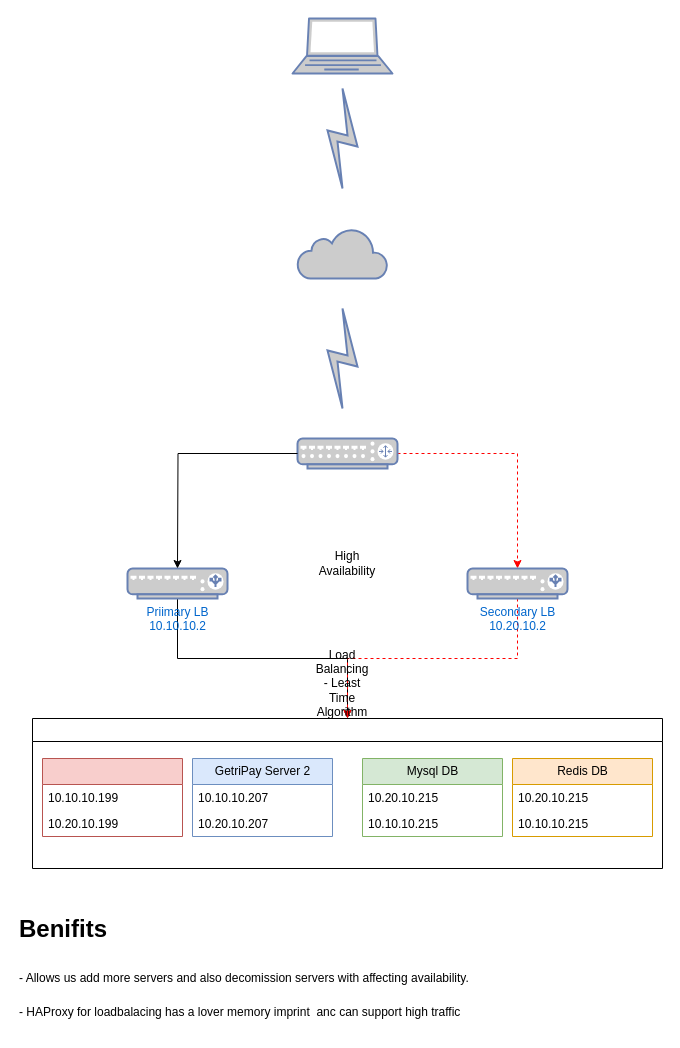
This 680x1048 diagram has some shape labels left out. Each missing label, with the box of its shape:
Backend: (32, 718, 662, 868)
GetriPay Server 1: (42, 758, 182, 836)
ROUTER 10.10.10.16: (296, 437, 398, 469)
